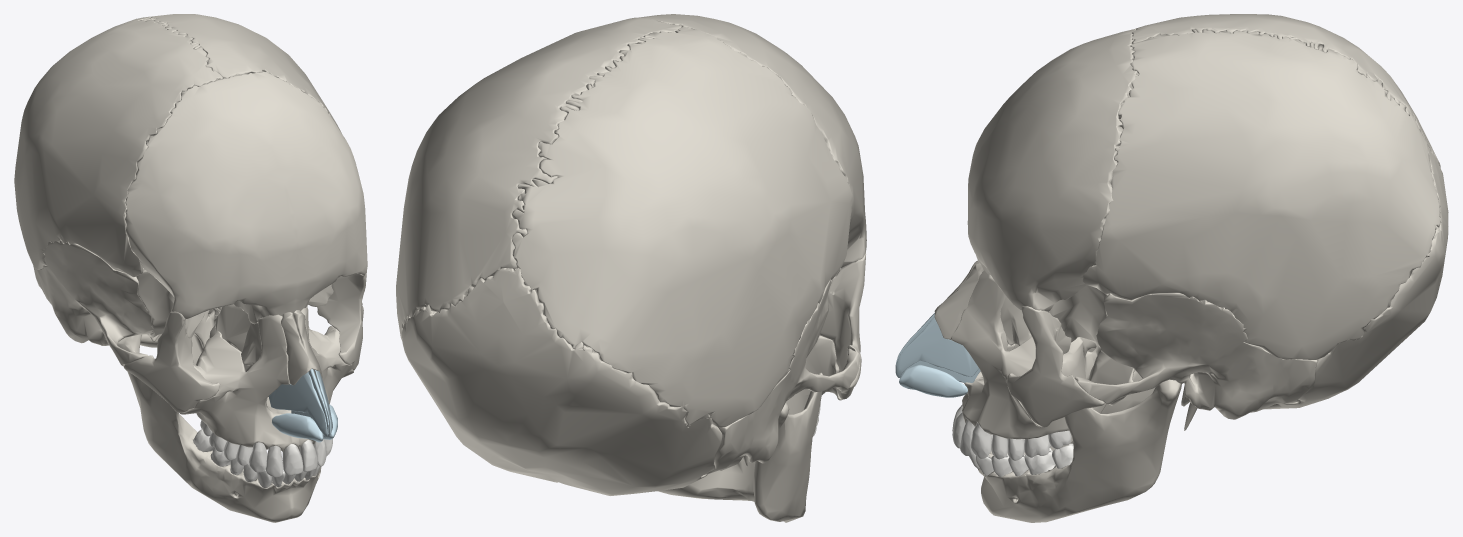
Rendered from skull-v1.glb.
3 views of the same model, side by side, from view 1: azimuth 30°, elevation 25°; view 2: azimuth 150°, elevation 25°; view 3: azimuth 270°, elevation 25° (orthographic). The views are drawn at different scales.
Visible parts, largest first — view 1: Frontal bone, Parietal bone.r, Temporal bone.r, Maxilla.r, Mandible, Parietal bone.l, Zygomatic bone.r, Sphenoid bone, Zygomatic bone.l, Maxilla.l, Lateral process of nasal septal cartilage.r, Nasal bone.r (+8 smaller); view 2: Parietal bone.r, Occipital bone, Parietal bone.l, Frontal bone, Mandible, Temporal bone.r, Zygomatic bone.r, Maxilla.r; view 3: Parietal bone.l, Frontal bone, Temporal bone.l, Mandible, Maxilla.l, Occipital bone, Parietal bone.r, Zygomatic bone.l, Sphenoid bone, Lateral process of nasal septal cartilage.l, Major alar cartilage.l, Nasal bone.l (+1 smaller).
Part boxes in pixels (x1,y1,x2,y2): Frontal bone: (125, 71, 367, 324); Parietal bone.r: (14, 17, 223, 277); Temporal bone.r: (33, 239, 153, 366); Maxilla.r: (179, 314, 299, 451); Mandible: (117, 304, 321, 522); Parietal bone.l: (137, 14, 355, 162); Zygomatic bone.r: (123, 311, 220, 412); Sphenoid bone: (136, 269, 333, 364); Zygomatic bone.l: (317, 270, 366, 370); Maxilla.l: (291, 306, 353, 446); Lateral process of nasal septal cartilage.r: (269, 372, 327, 436); Nasal bone.r: (281, 312, 311, 385); Parietal bone.r: (512, 26, 852, 427); Occipital bone: (401, 268, 722, 495); Parietal bone.l: (396, 17, 681, 340); Frontal bone: (639, 14, 866, 267); Mandible: (658, 372, 822, 522); Temporal bone.r: (704, 278, 860, 474); Zygomatic bone.r: (819, 252, 865, 399); Maxilla.r: (786, 335, 842, 414); Parietal bone.l: (1082, 29, 1441, 359); Frontal bone: (967, 29, 1138, 311); Temporal bone.l: (1074, 292, 1317, 430); Mandible: (978, 370, 1181, 522); Maxilla.l: (951, 270, 1086, 439); Occipital bone: (1263, 147, 1448, 409); Parietal bone.r: (1123, 14, 1440, 167); Zygomatic bone.l: (1006, 306, 1104, 426); Sphenoid bone: (1047, 285, 1134, 405); Lateral process of nasal septal cartilage.l: (895, 318, 978, 377); Major alar cartilage.l: (899, 364, 967, 397); Nasal bone.l: (934, 263, 983, 339).
Bounding box in the file's own units: 0.1487 × 0.2092 × 0.2191.
